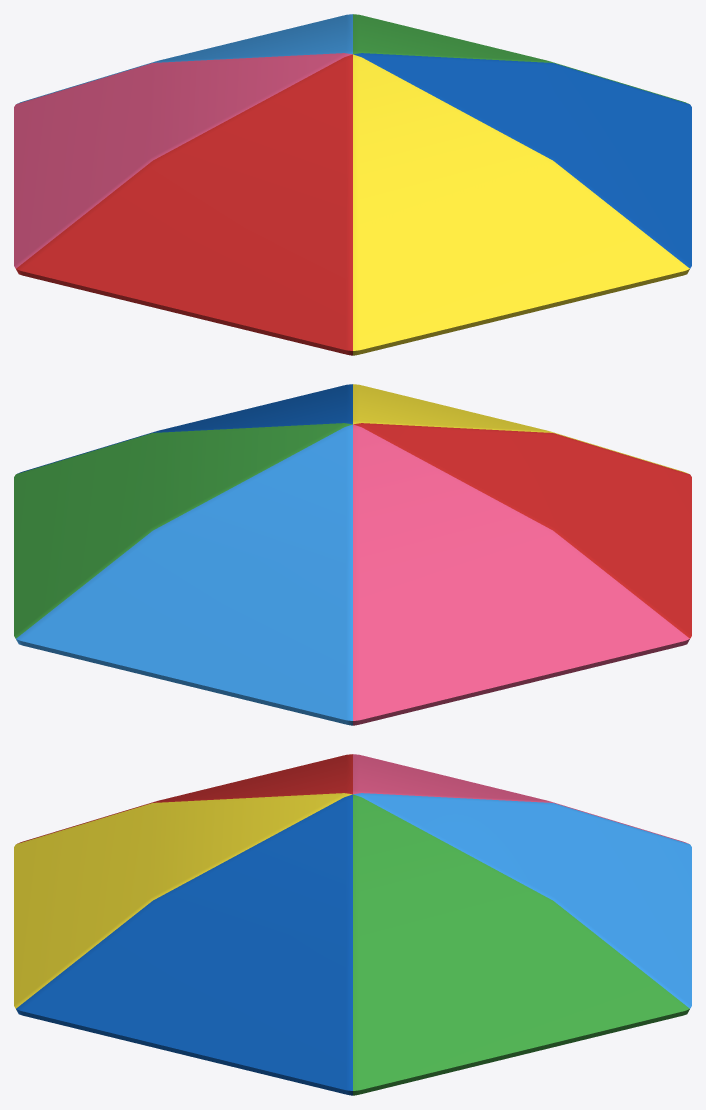
File: Hat_085.glb
3 renders of one model, top to bottom at view 1: azimuth 30°, elevation 25°; view 2: azimuth 150°, elevation 25°; view 3: azimuth 270°, elevation 25°, orthographic.
Parts seen in each view (by area): view 1: Hat_085; view 2: Hat_085; view 3: Hat_085.
Boxes of the visible parts, x1,y1,x2,y2 form: Hat_085: [14, 14, 691, 355]; Hat_085: [14, 384, 691, 725]; Hat_085: [14, 754, 691, 1095].
Bounding box in the file's own units: 1.15 × 0.2259 × 1.
1 material, 1 textured.
